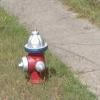Hydrant: (13, 22, 58, 89)
